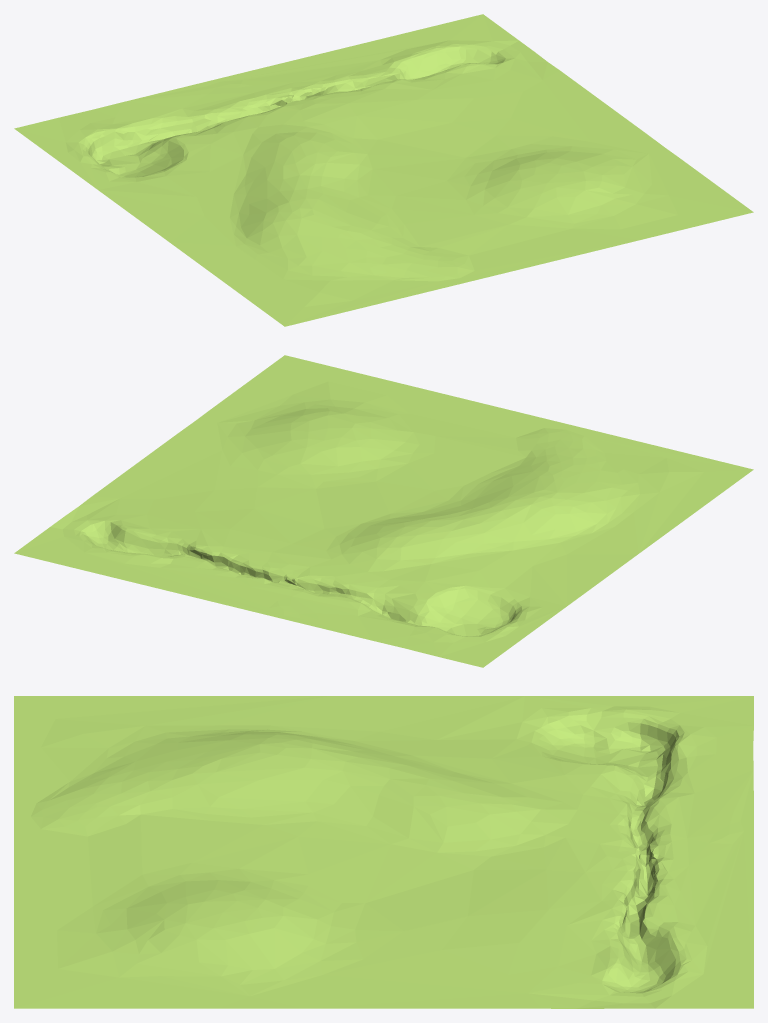
File: Terrain_04.fbx
3 views of the same model, one above another, from view 1: azimuth 30°, elevation 25°; view 2: azimuth 150°, elevation 25°; view 3: azimuth 270°, elevation 25° (orthographic). The views are drawn at different scales.
Parts seen in each view (by area): view 1: Terrain_04; view 2: Terrain_04; view 3: Terrain_04.
Boxes of the visible parts, x1,y1,x2,y2 form: Terrain_04: (14,14,753,326); Terrain_04: (14,355,753,667); Terrain_04: (14,696,753,1008).
Size of the model in its own units: 524 by 36.33 by 524.
